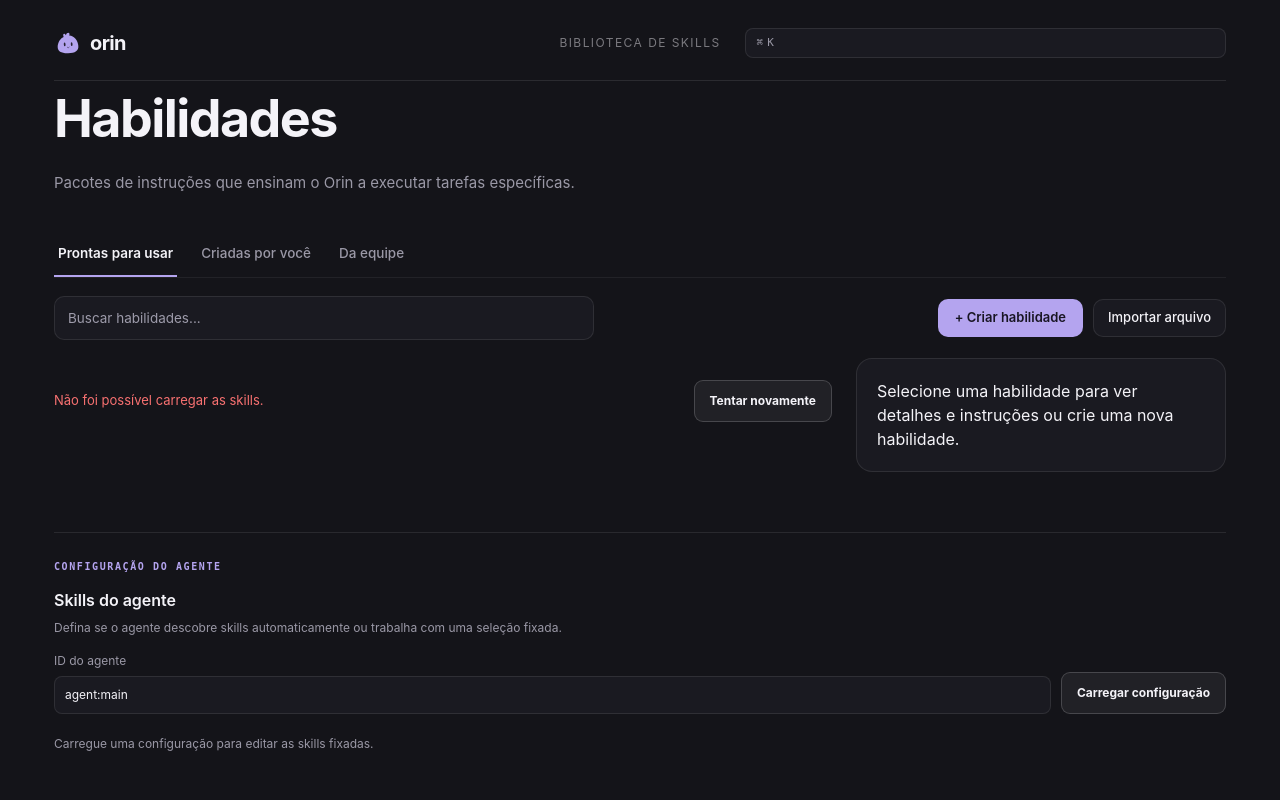
it: SkillsPage › retries a failed library load and exposes the recovered list
Check: the message shows "Não foi possível carregar as skills.", box [54,392,264,408]
Click the button "Tentar novamente".
click(763, 401)  # box [694,380,832,422]
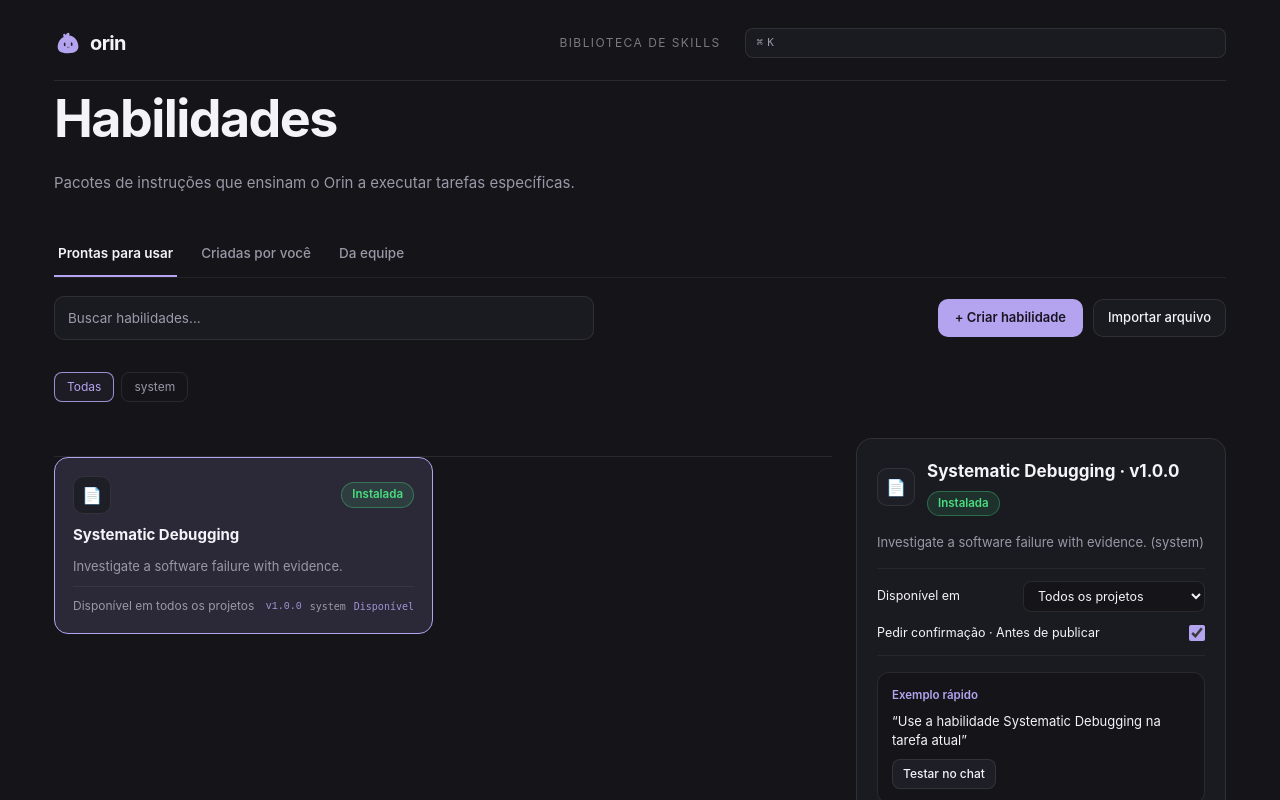
Check: the link "Systematic Debugging" is shown, box [73,525,239,544]
